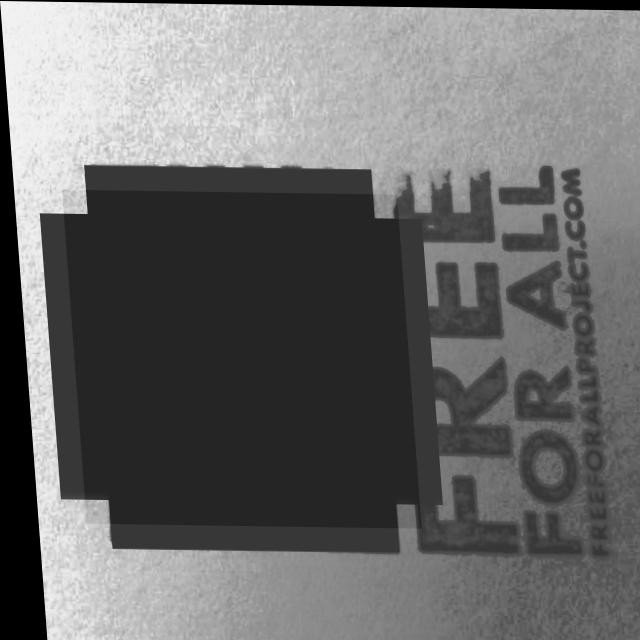qr_code: (59, 189, 413, 526)
